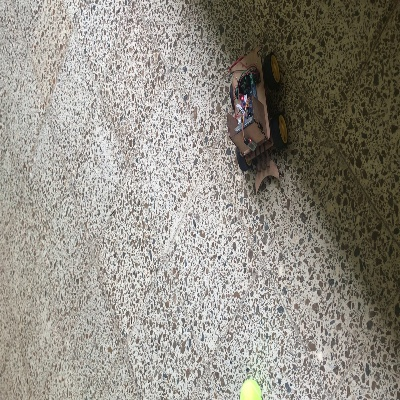Ball: (239, 380, 262, 398)
Robot: (227, 47, 288, 194)
